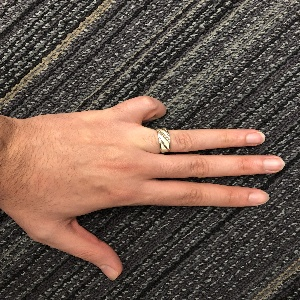hand: (26, 97, 282, 279)
